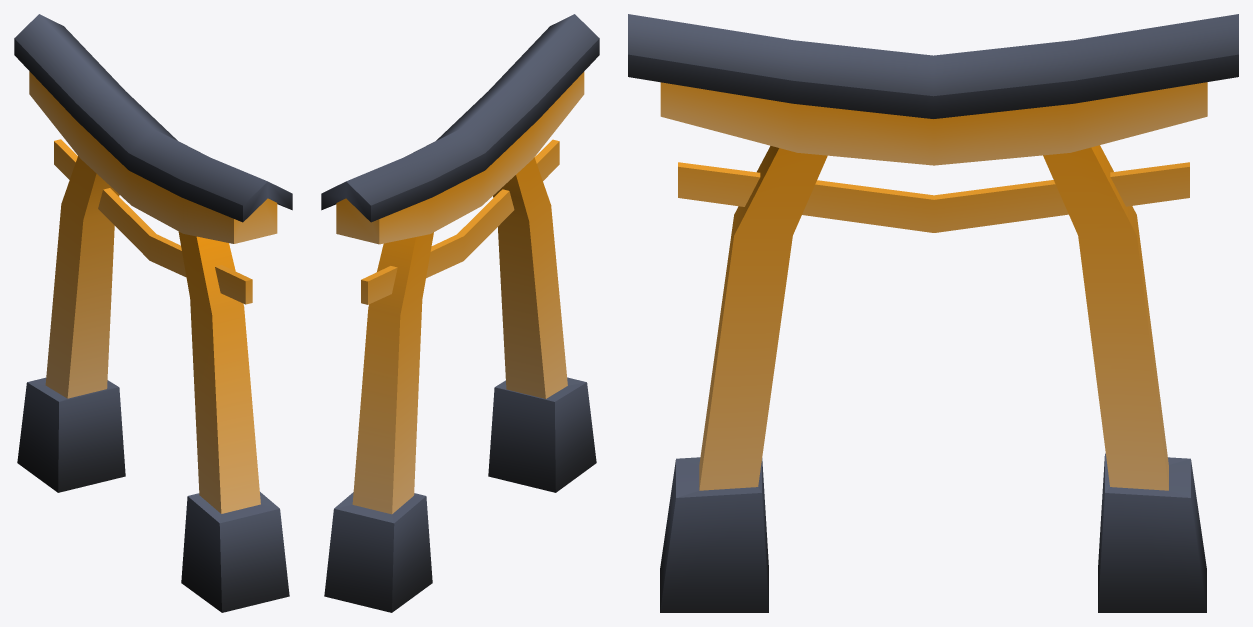
File: toriigatePortal3.fbx
3 views of the same model, side by side, from view 1: azimuth 30°, elevation 25°; view 2: azimuth 150°, elevation 25°; view 3: azimuth 270°, elevation 25° (orthographic). The views are drawn at different scales.
Visible parts, largest first — view 1: ToriiGatePortal; view 2: ToriiGatePortal; view 3: ToriiGatePortal.
Boxes of the visible parts, x1,y1,x2,y2 form: ToriiGatePortal: [14, 14, 292, 612]; ToriiGatePortal: [321, 14, 599, 612]; ToriiGatePortal: [628, 14, 1238, 612].
Bounding box in the file's own units: 30.31 × 185 × 178.
